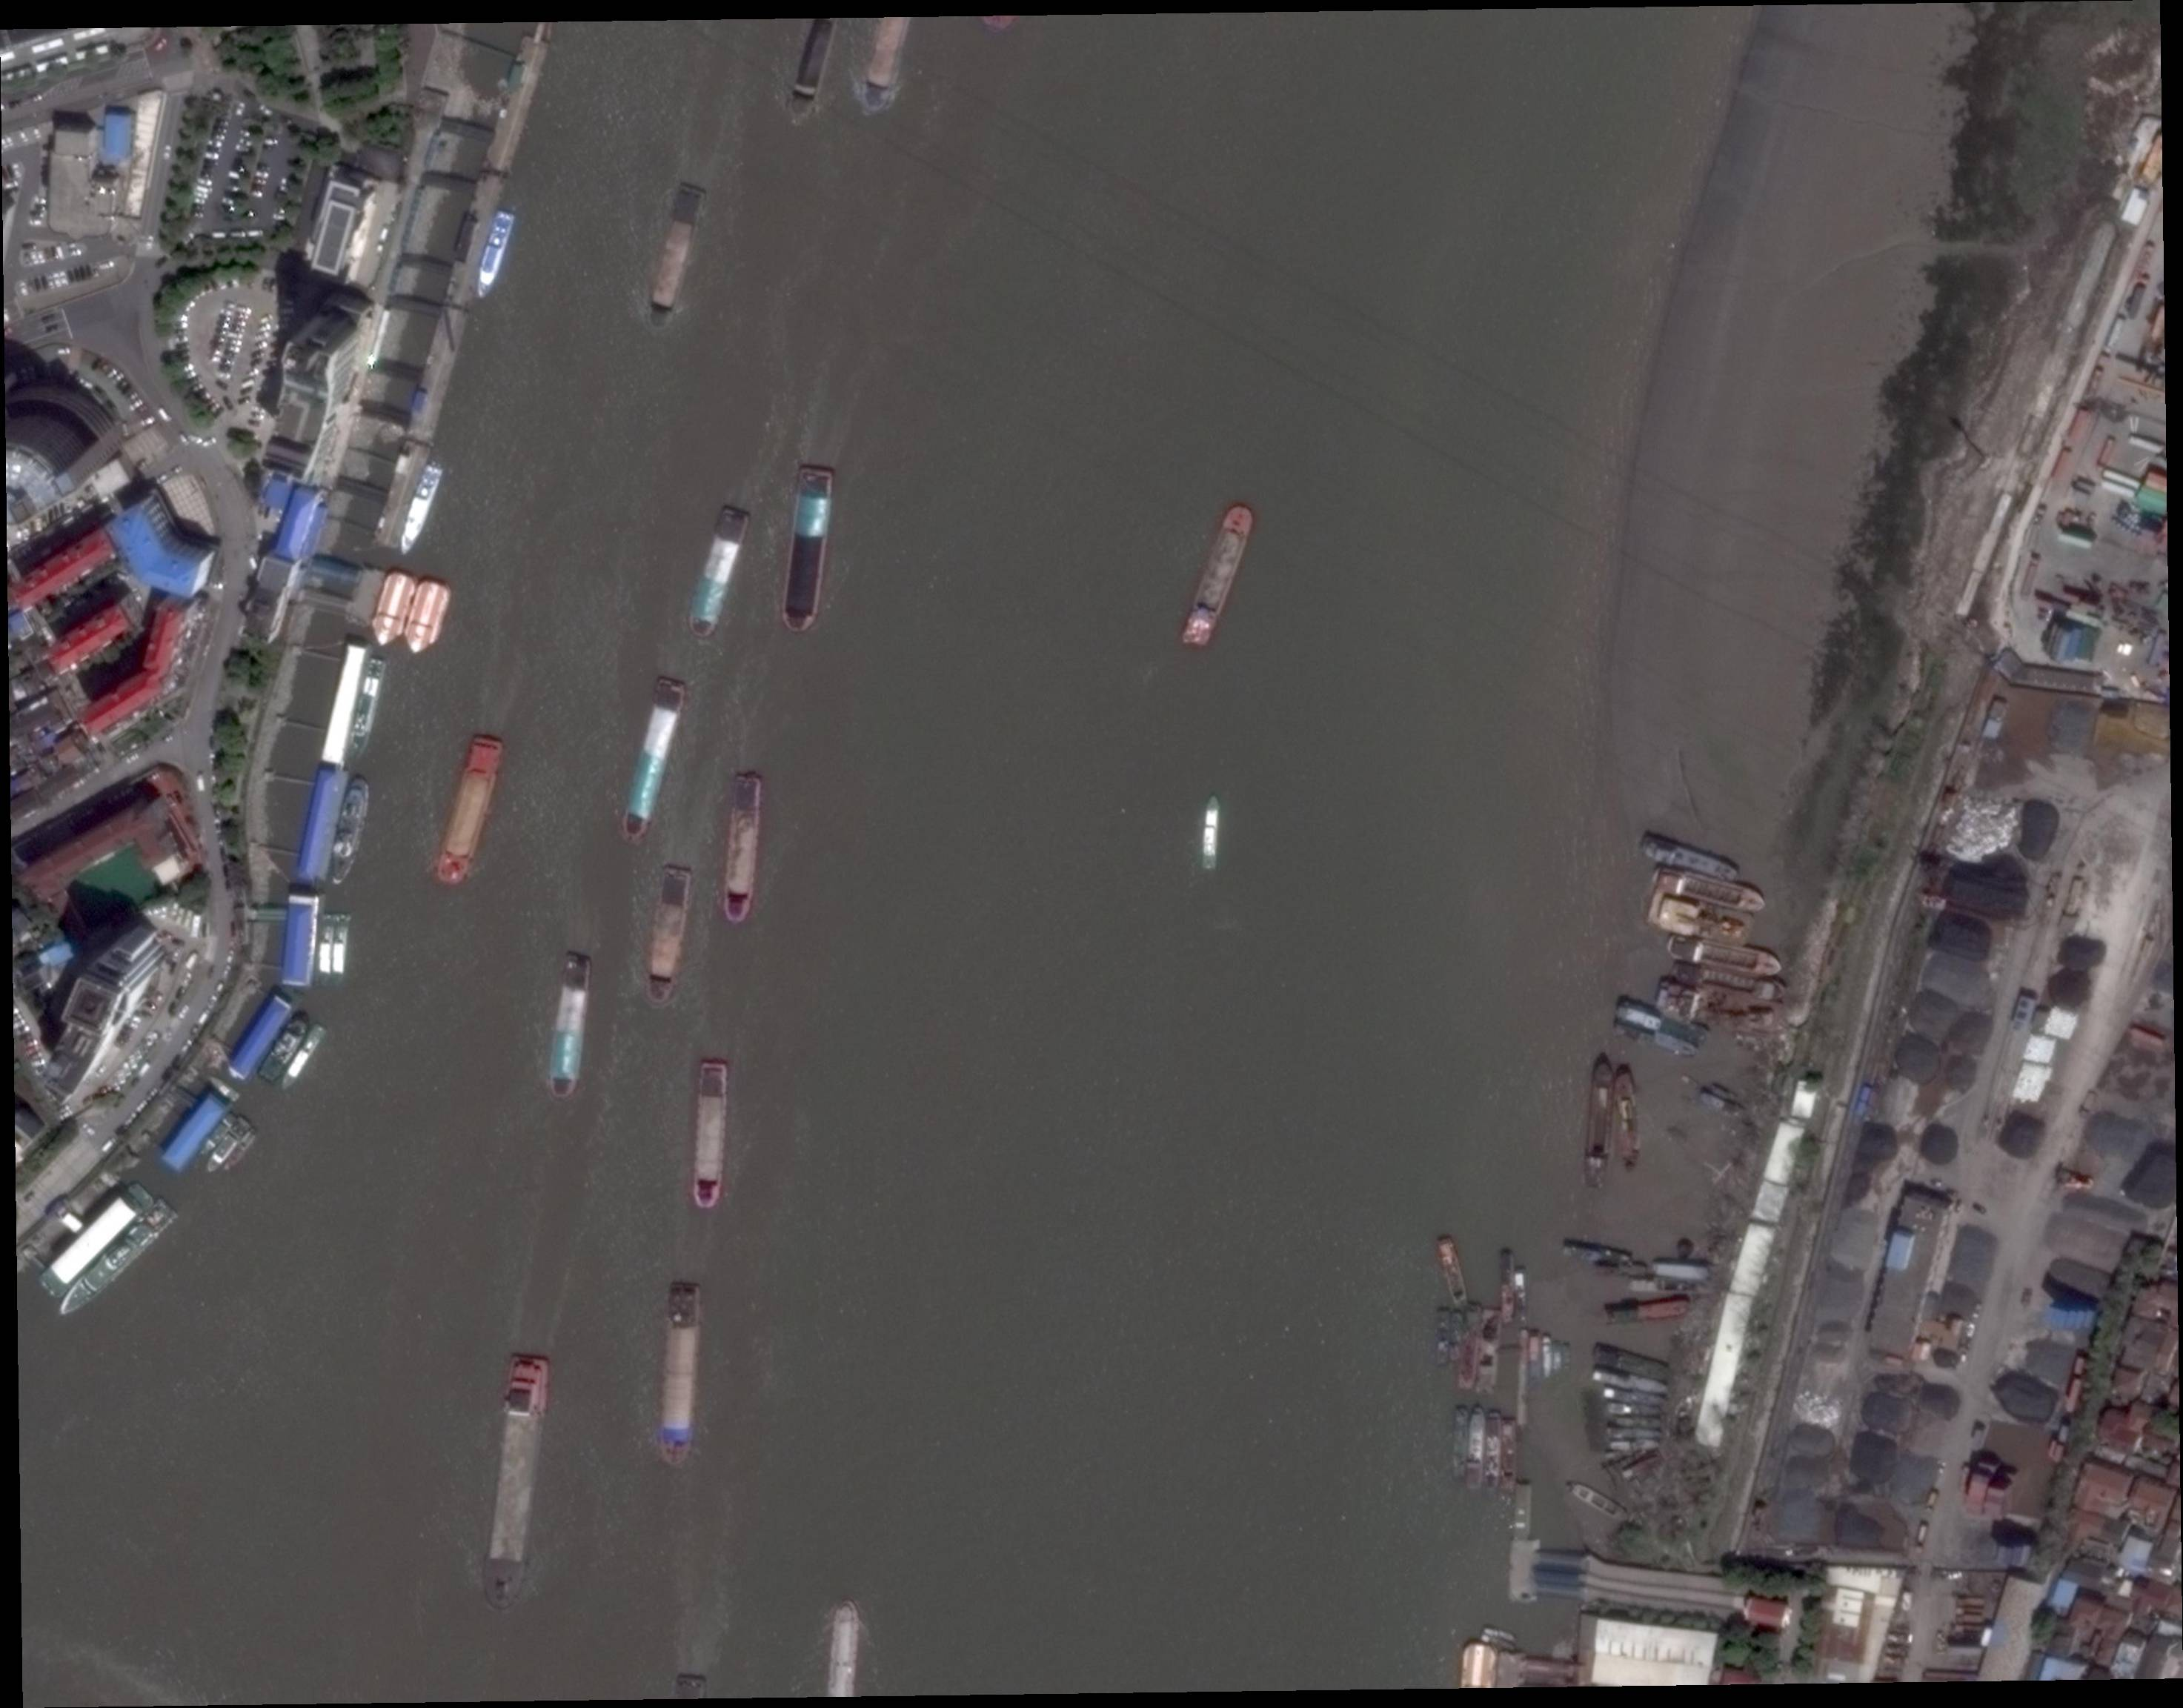ship: (482, 1357, 549, 1611), (55, 1198, 179, 1324), (37, 1182, 156, 1300), (617, 677, 689, 847), (1178, 501, 1258, 654), (434, 735, 505, 888), (780, 466, 835, 633), (684, 505, 751, 640), (659, 1283, 702, 1465), (649, 184, 707, 312), (1646, 888, 1758, 951), (549, 951, 594, 1100), (645, 868, 691, 1005), (1651, 865, 1768, 918), (723, 776, 764, 925), (691, 1065, 730, 1208), (1667, 934, 1784, 982), (326, 776, 374, 886), (1639, 835, 1740, 886), (787, 19, 836, 120), (1671, 960, 1788, 1003), (859, 18, 911, 113), (397, 457, 445, 558), (367, 567, 422, 654), (253, 1010, 315, 1084), (400, 576, 454, 661), (346, 656, 388, 760), (1582, 1060, 1616, 1191), (1616, 999, 1708, 1047), (471, 209, 516, 301), (1611, 1019, 1701, 1061), (276, 1024, 330, 1093), (827, 1598, 863, 1697), (1591, 1343, 1671, 1384), (1565, 1479, 1630, 1526), (204, 1116, 252, 1175), (1435, 1237, 1471, 1308), (1607, 1299, 1692, 1327), (1616, 1072, 1641, 1168), (1593, 1364, 1667, 1396), (1476, 1308, 1503, 1394), (1457, 1304, 1483, 1391), (1465, 1407, 1488, 1490), (198, 1113, 237, 1159), (1563, 1242, 1630, 1269), (1483, 1410, 1504, 1490), (223, 1127, 259, 1173), (1451, 1405, 1472, 1479), (1201, 794, 1221, 870), (1499, 1419, 1517, 1497), (1627, 1277, 1712, 1293), (1604, 1386, 1666, 1407), (319, 914, 337, 987), (1653, 1262, 1712, 1283), (333, 912, 349, 985), (1501, 1253, 1515, 1325), (1448, 1311, 1464, 1366), (1607, 1403, 1662, 1417), (1437, 1309, 1449, 1368), (1607, 1428, 1664, 1440), (1616, 1416, 1662, 1430), (1529, 1336, 1542, 1386), (1542, 1334, 1554, 1378), (1609, 1440, 1660, 1451), (1554, 1341, 1563, 1375), (1563, 1343, 1572, 1373)
